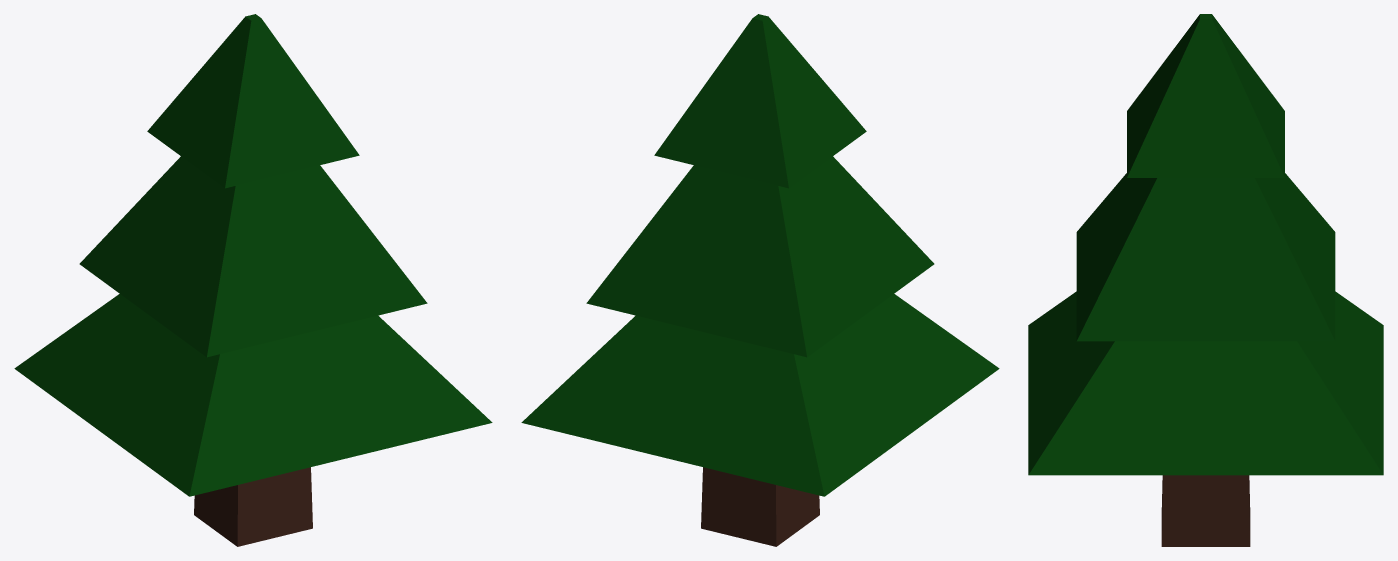
File: Tree.fbx
3 views of the same model, side by side, from view 1: azimuth 30°, elevation 25°; view 2: azimuth 150°, elevation 25°; view 3: azimuth 270°, elevation 25° (orthographic).
Parts seen in each view (by area): view 1: Tree; view 2: Tree; view 3: Tree.
Part boxes in pixels (x1=…): Tree: x1=14, y1=14, x2=492, y2=546; Tree: x1=521, y1=14, x2=999, y2=546; Tree: x1=1028, y1=14, x2=1383, y2=546.
Size of the model in its own units: 138 by 220 by 138.
